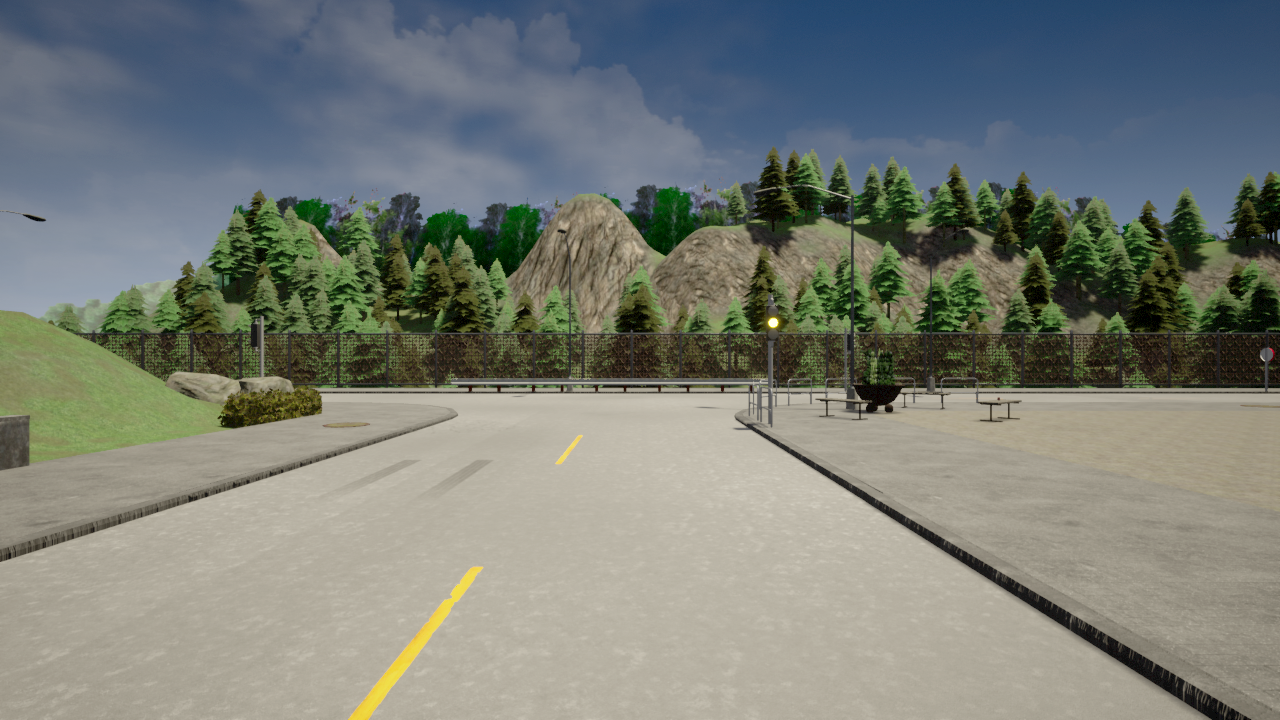yellow: (765, 304, 779, 343)
